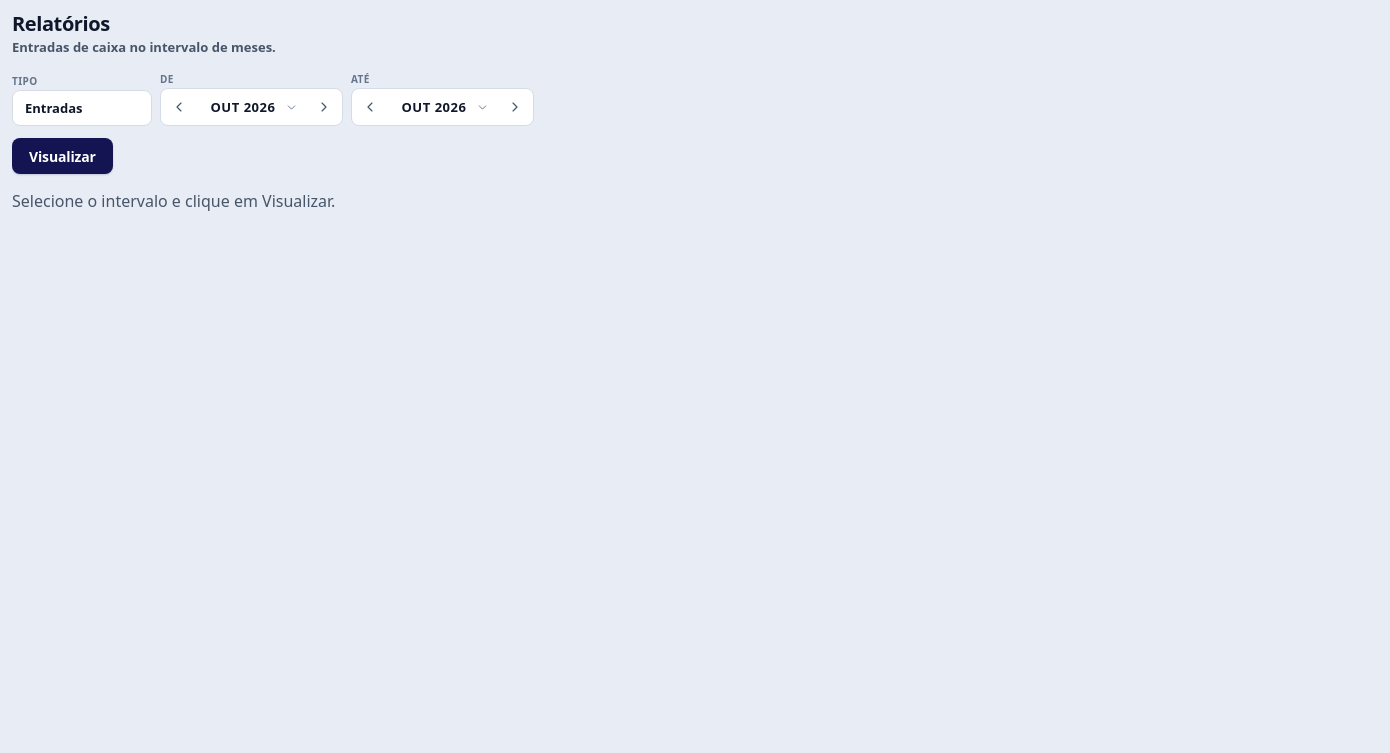
Test: página /relatorios › trocar o tipo invalida a exportação sem buscar de novo
Click the button with aria-label "Visualizar relatório" at coordinates (62, 156), box [12, 138, 113, 174]
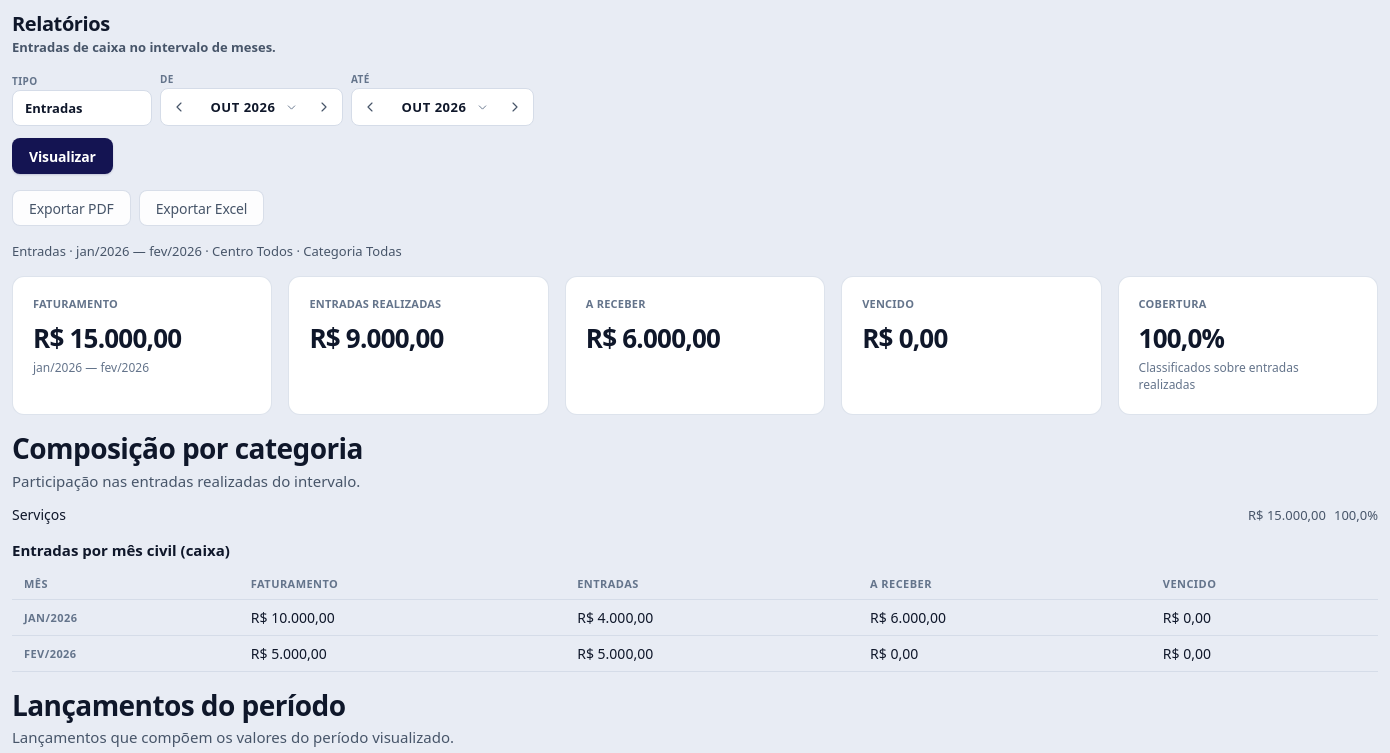
Expected: the button "Exportar PDF" is enabled, [12, 190, 131, 226]
Select "Saídas" in the dropdown named "Tipo de relatório" at coordinates (82, 108), box [12, 90, 152, 126]
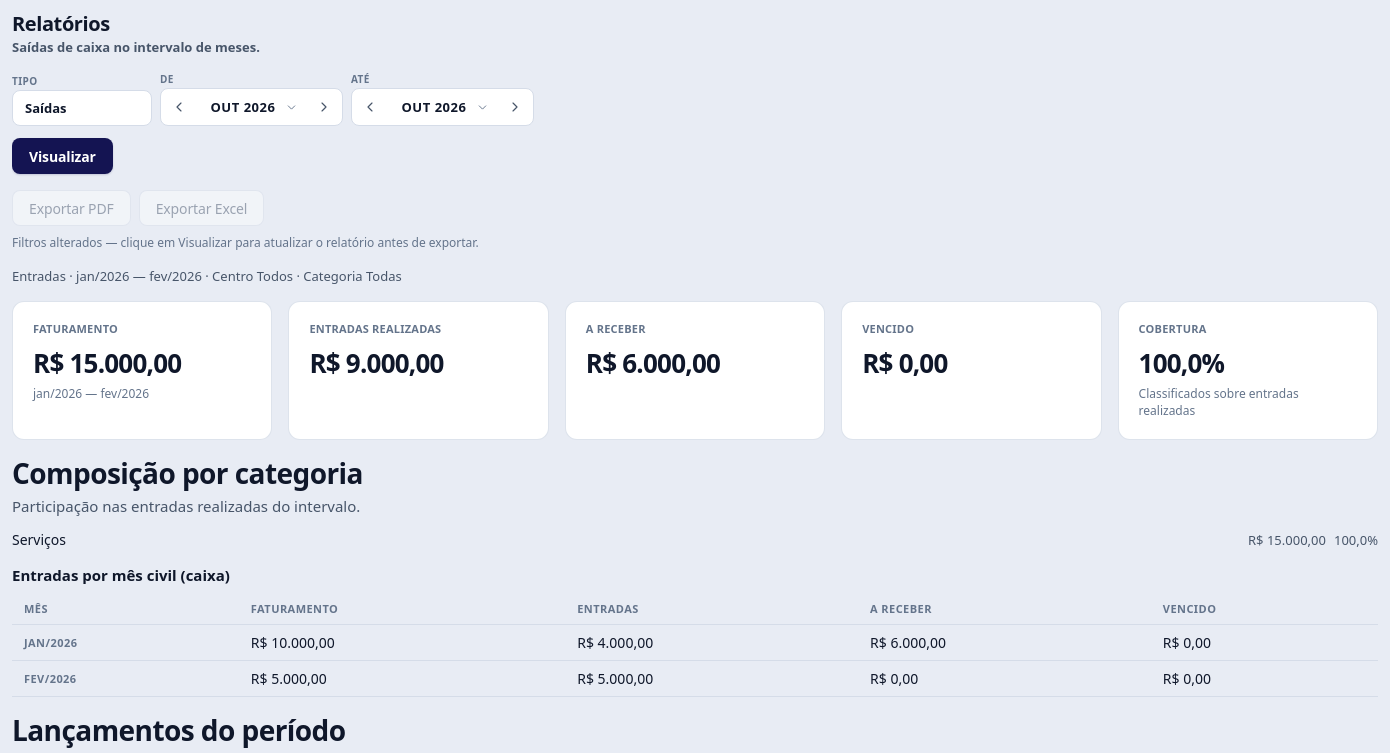
Expected: the button "Exportar PDF" is disabled, [12, 190, 131, 226]
Expected: the text "Filtros alterados — clique em Visualizar" is shown, [12, 234, 479, 251]
